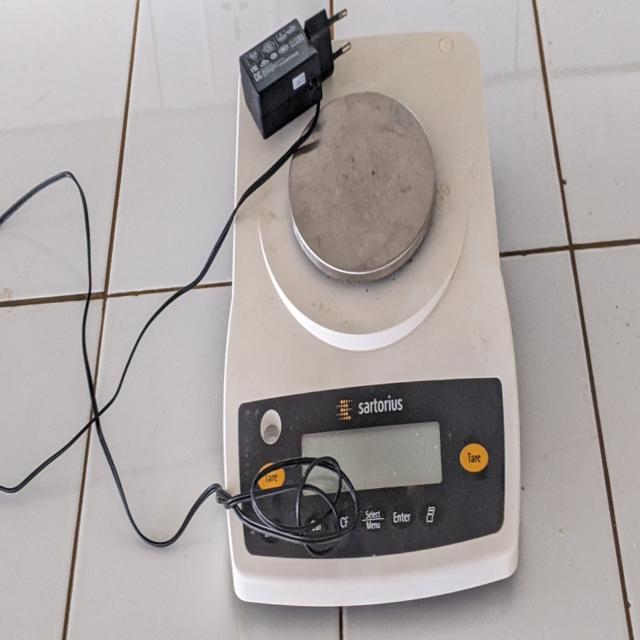Electronic Balance: (220, 36, 532, 613)
